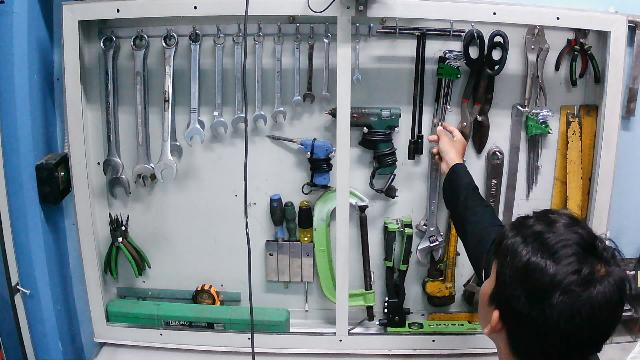kunci_l: (425, 49, 469, 146)
